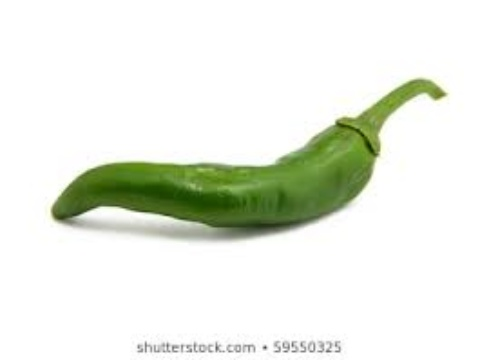Chilli: (29, 61, 459, 239)
